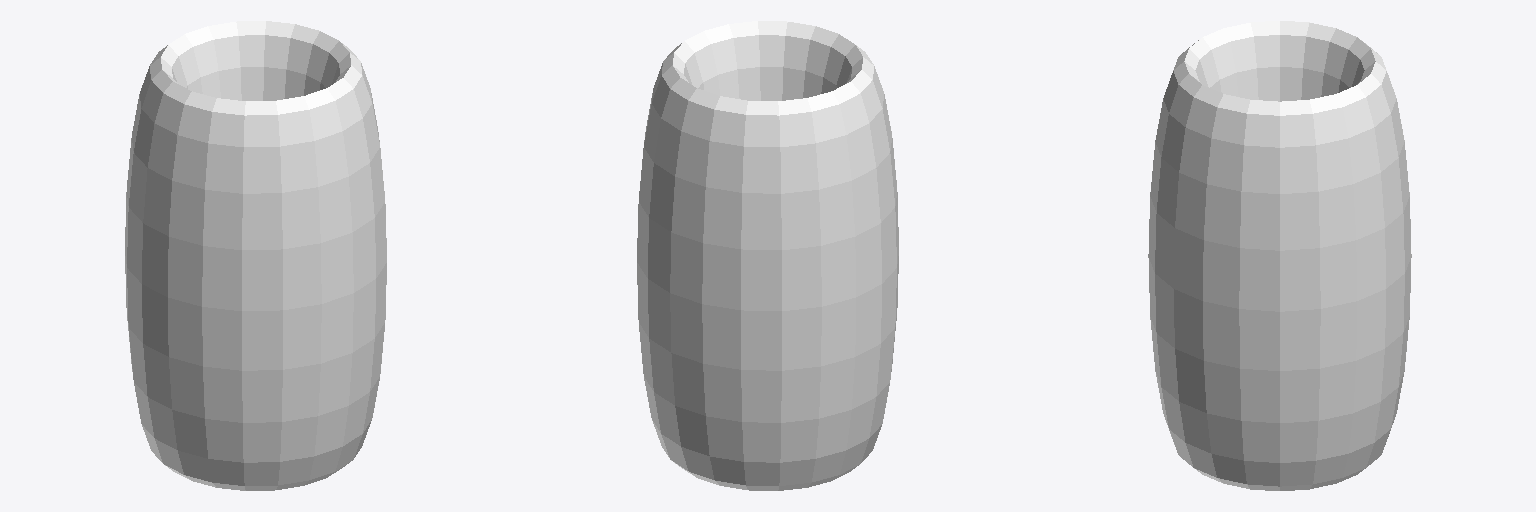
The model's file is tub.obj.
3 renders of one model, left to right at view 1: azimuth 30°, elevation 25°; view 2: azimuth 150°, elevation 25°; view 3: azimuth 270°, elevation 25°, orthographic.
Visible parts, largest first — view 1: pTorus1 group3; view 2: pTorus1 group3; view 3: pTorus1 group3.
Boxes of the visible parts, x1=… form: pTorus1 group3: x1=125, y1=21, x2=386, y2=490; pTorus1 group3: x1=637, y1=21, x2=898, y2=490; pTorus1 group3: x1=1148, y1=21, x2=1411, y2=490.
Size of the model in its own units: 5.03 by 8.19 by 5.01.